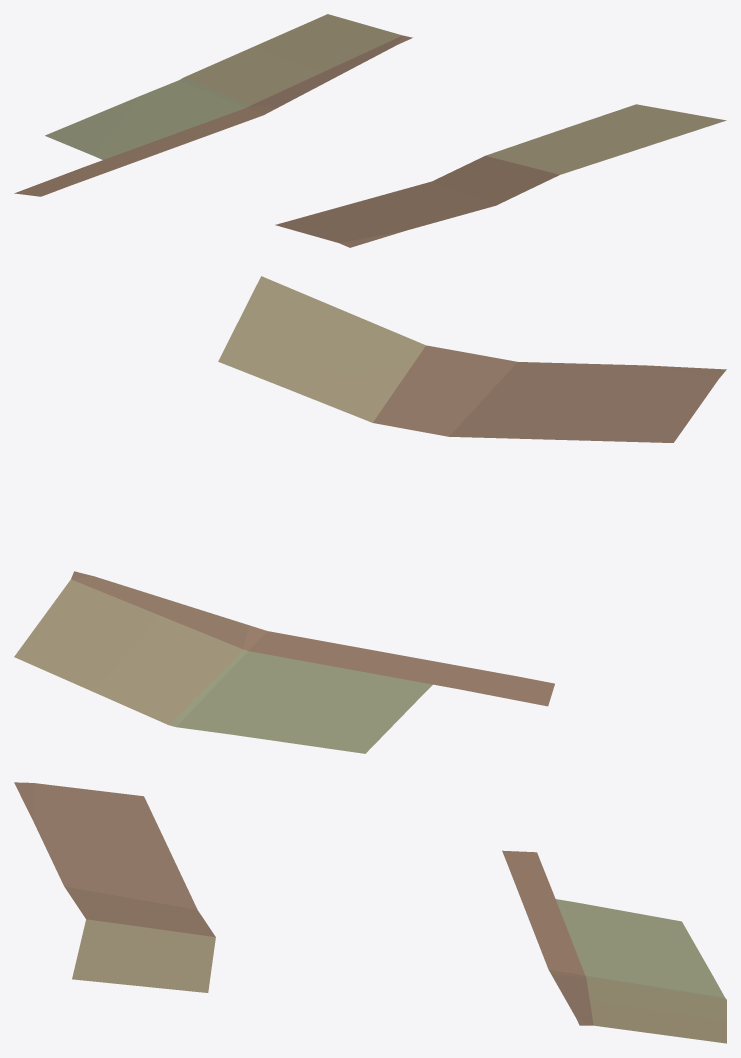
The model's file is farm_-34_-41_soil.glb.
3 renders of one model, top to bottom at view 1: azimuth 30°, elevation 25°; view 2: azimuth 150°, elevation 25°; view 3: azimuth 270°, elevation 25°, orthographic. The views are drawn at different scales.
Parts seen in each view (by area): view 1: geometry_0; view 2: geometry_0; view 3: geometry_0.
Part boxes in pixels (x1,y1,x2,y2): geometry_0: (14,14,726,247); geometry_0: (14,276,726,753); geometry_0: (14,782,726,1043).
Bounding box in the file's own units: 129 × 33.8 × 156.
